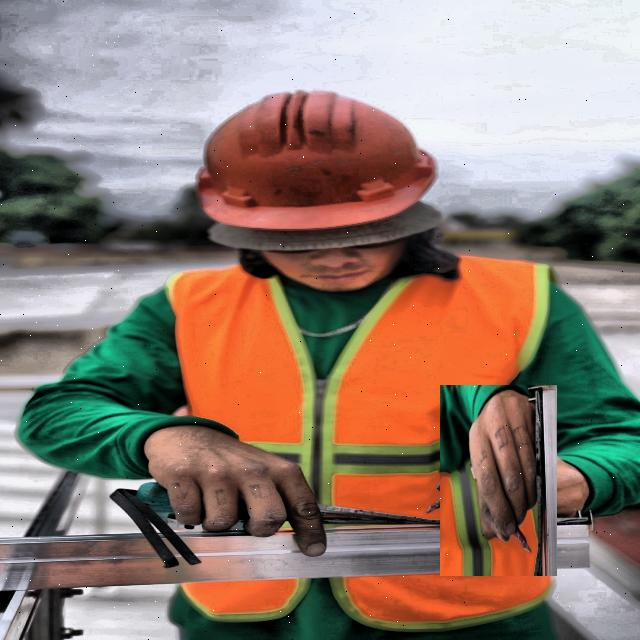not-gloved: (142, 419, 363, 565), (422, 403, 576, 558)
